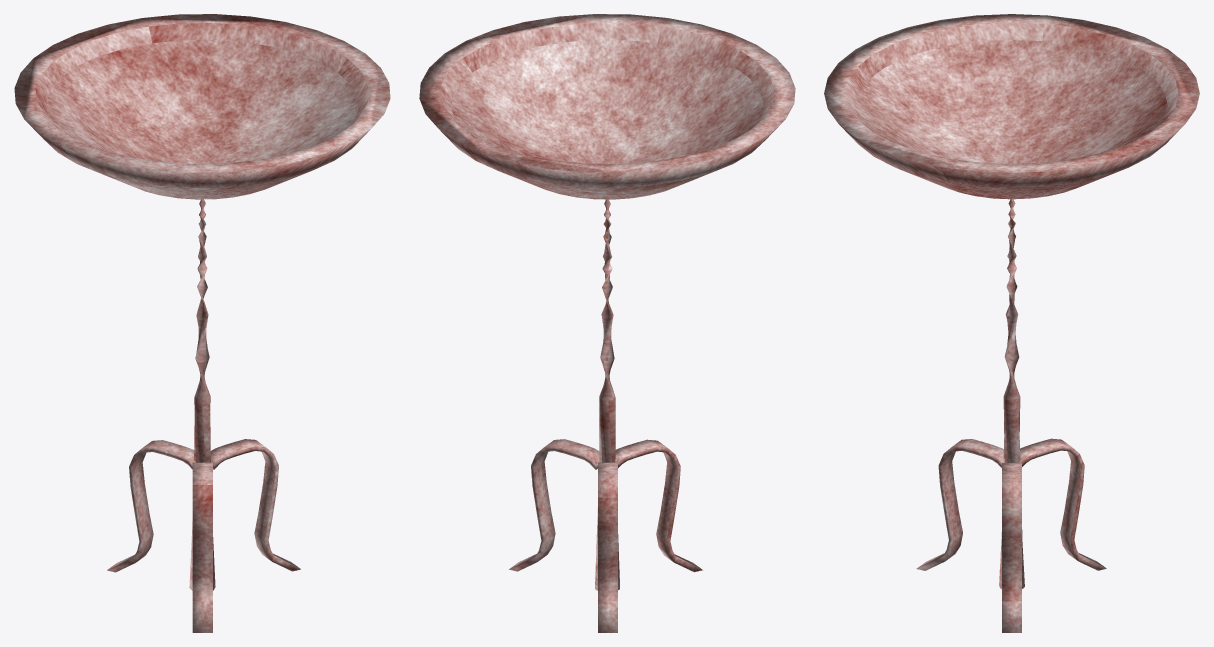
File: shortCandleStickUnited_02.fbx
3 views of the same model, side by side, from view 1: azimuth 30°, elevation 25°; view 2: azimuth 150°, elevation 25°; view 3: azimuth 270°, elevation 25° (orthographic).
Visible parts, largest first — view 1: Cylinder; view 2: Cylinder; view 3: Cylinder.
Part boxes in pixels (box(x1,y1,x2,y2)): Cylinder: box(14, 14, 390, 632); Cylinder: box(419, 14, 795, 632); Cylinder: box(824, 14, 1199, 632).
Bounding box in the file's own units: 200 × 290 × 200.
1 material, 1 textured.
